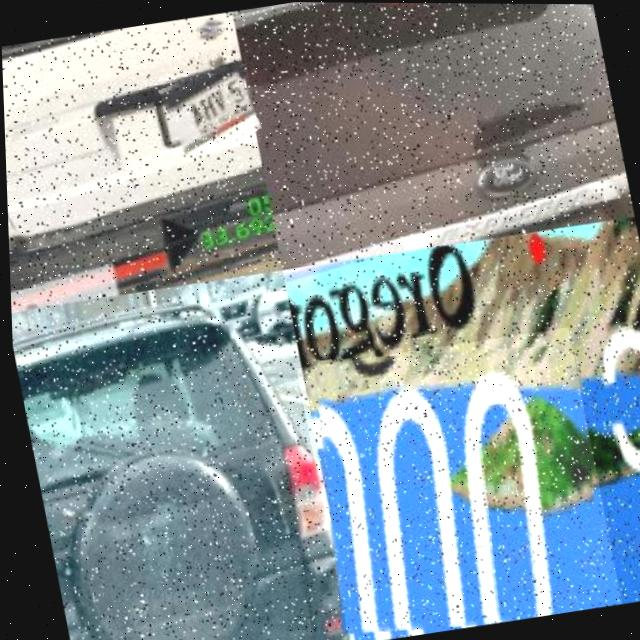LicensePlate: (292, 325, 619, 640), (158, 62, 260, 155)
